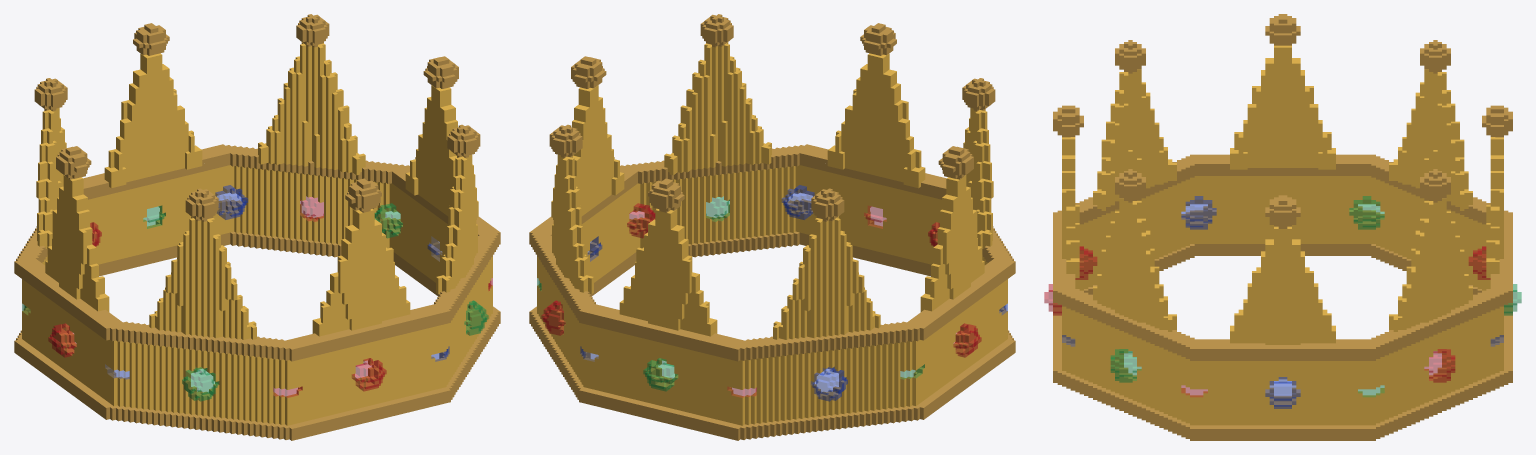
Rendered from crown_golden_survivor.glb.
The picture shows the model from 3 angles, left to right: view 1: azimuth 30°, elevation 25°; view 2: azimuth 150°, elevation 25°; view 3: azimuth 270°, elevation 25°; orthographic projection.
Visible parts, largest first — view 1: crown_golden_survivor:compound; view 2: crown_golden_survivor:compound; view 3: crown_golden_survivor:compound.
Part boxes in pixels (bbox=[...]): crown_golden_survivor:compound: bbox=[14, 14, 500, 440]; crown_golden_survivor:compound: bbox=[529, 14, 1015, 440]; crown_golden_survivor:compound: bbox=[1044, 14, 1521, 440].
Bounding box in the file's own units: 0.216 × 0.118 × 0.216.
